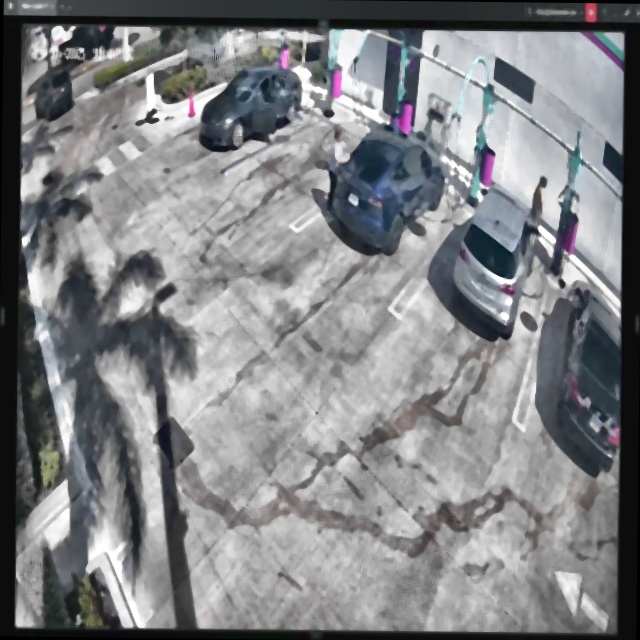Car: (330, 122, 445, 254), (452, 188, 539, 336), (199, 65, 298, 151)
